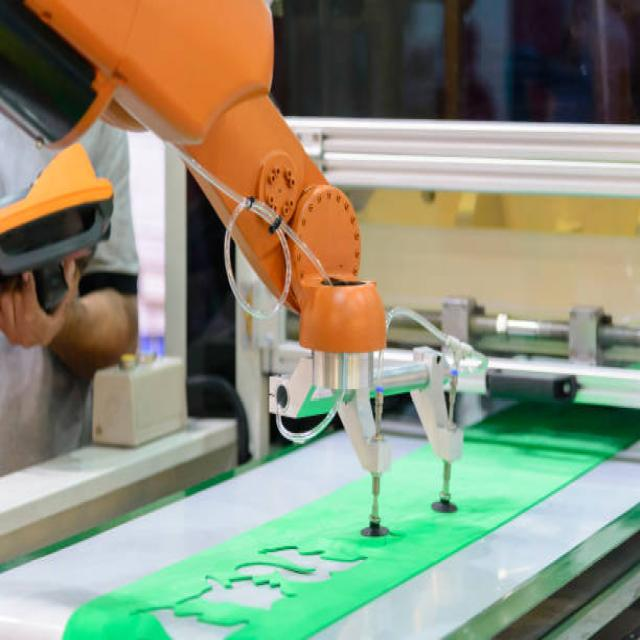Robotic-arm: (1, 2, 395, 420)
